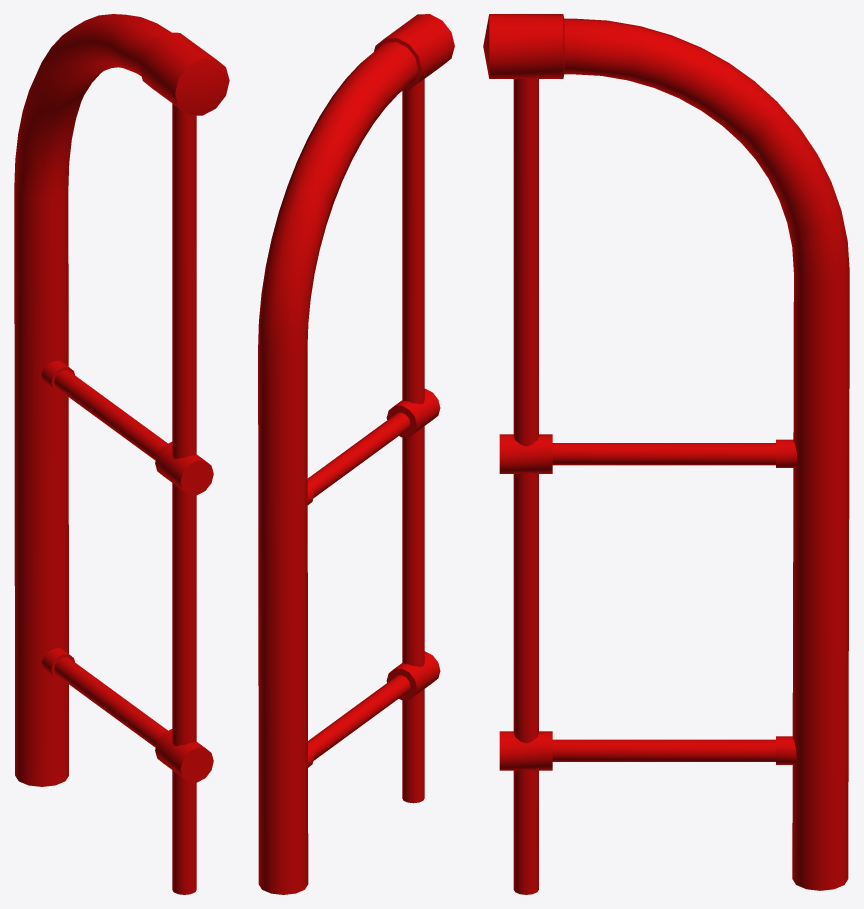
3 views of the same model, side by side, from view 1: azimuth 30°, elevation 25°; view 2: azimuth 150°, elevation 25°; view 3: azimuth 270°, elevation 25° (orthographic). The views are drawn at different scales.
Parts seen in each view (by area): view 1: Mesh; view 2: Mesh; view 3: Mesh.
Part boxes in pixels (x1,y1,x2,y2): Mesh: (14,14,229,894); Mesh: (258,14,454,894); Mesh: (483,14,849,894).
Size of the model in its own units: 0.0863 by 1.27 by 0.4853.
